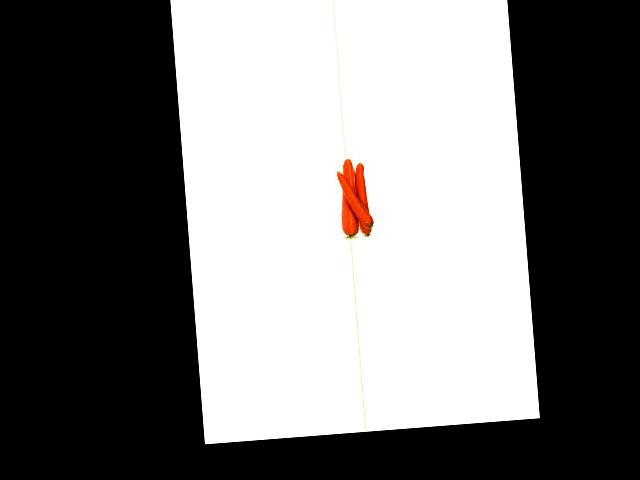carrot: (336, 155, 357, 239)
